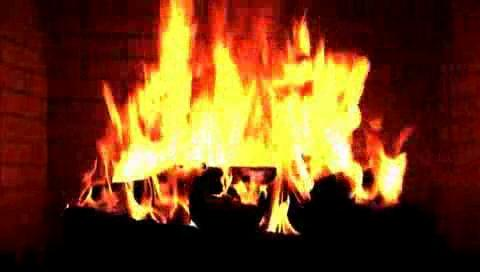fire: (105, 4, 404, 228)
